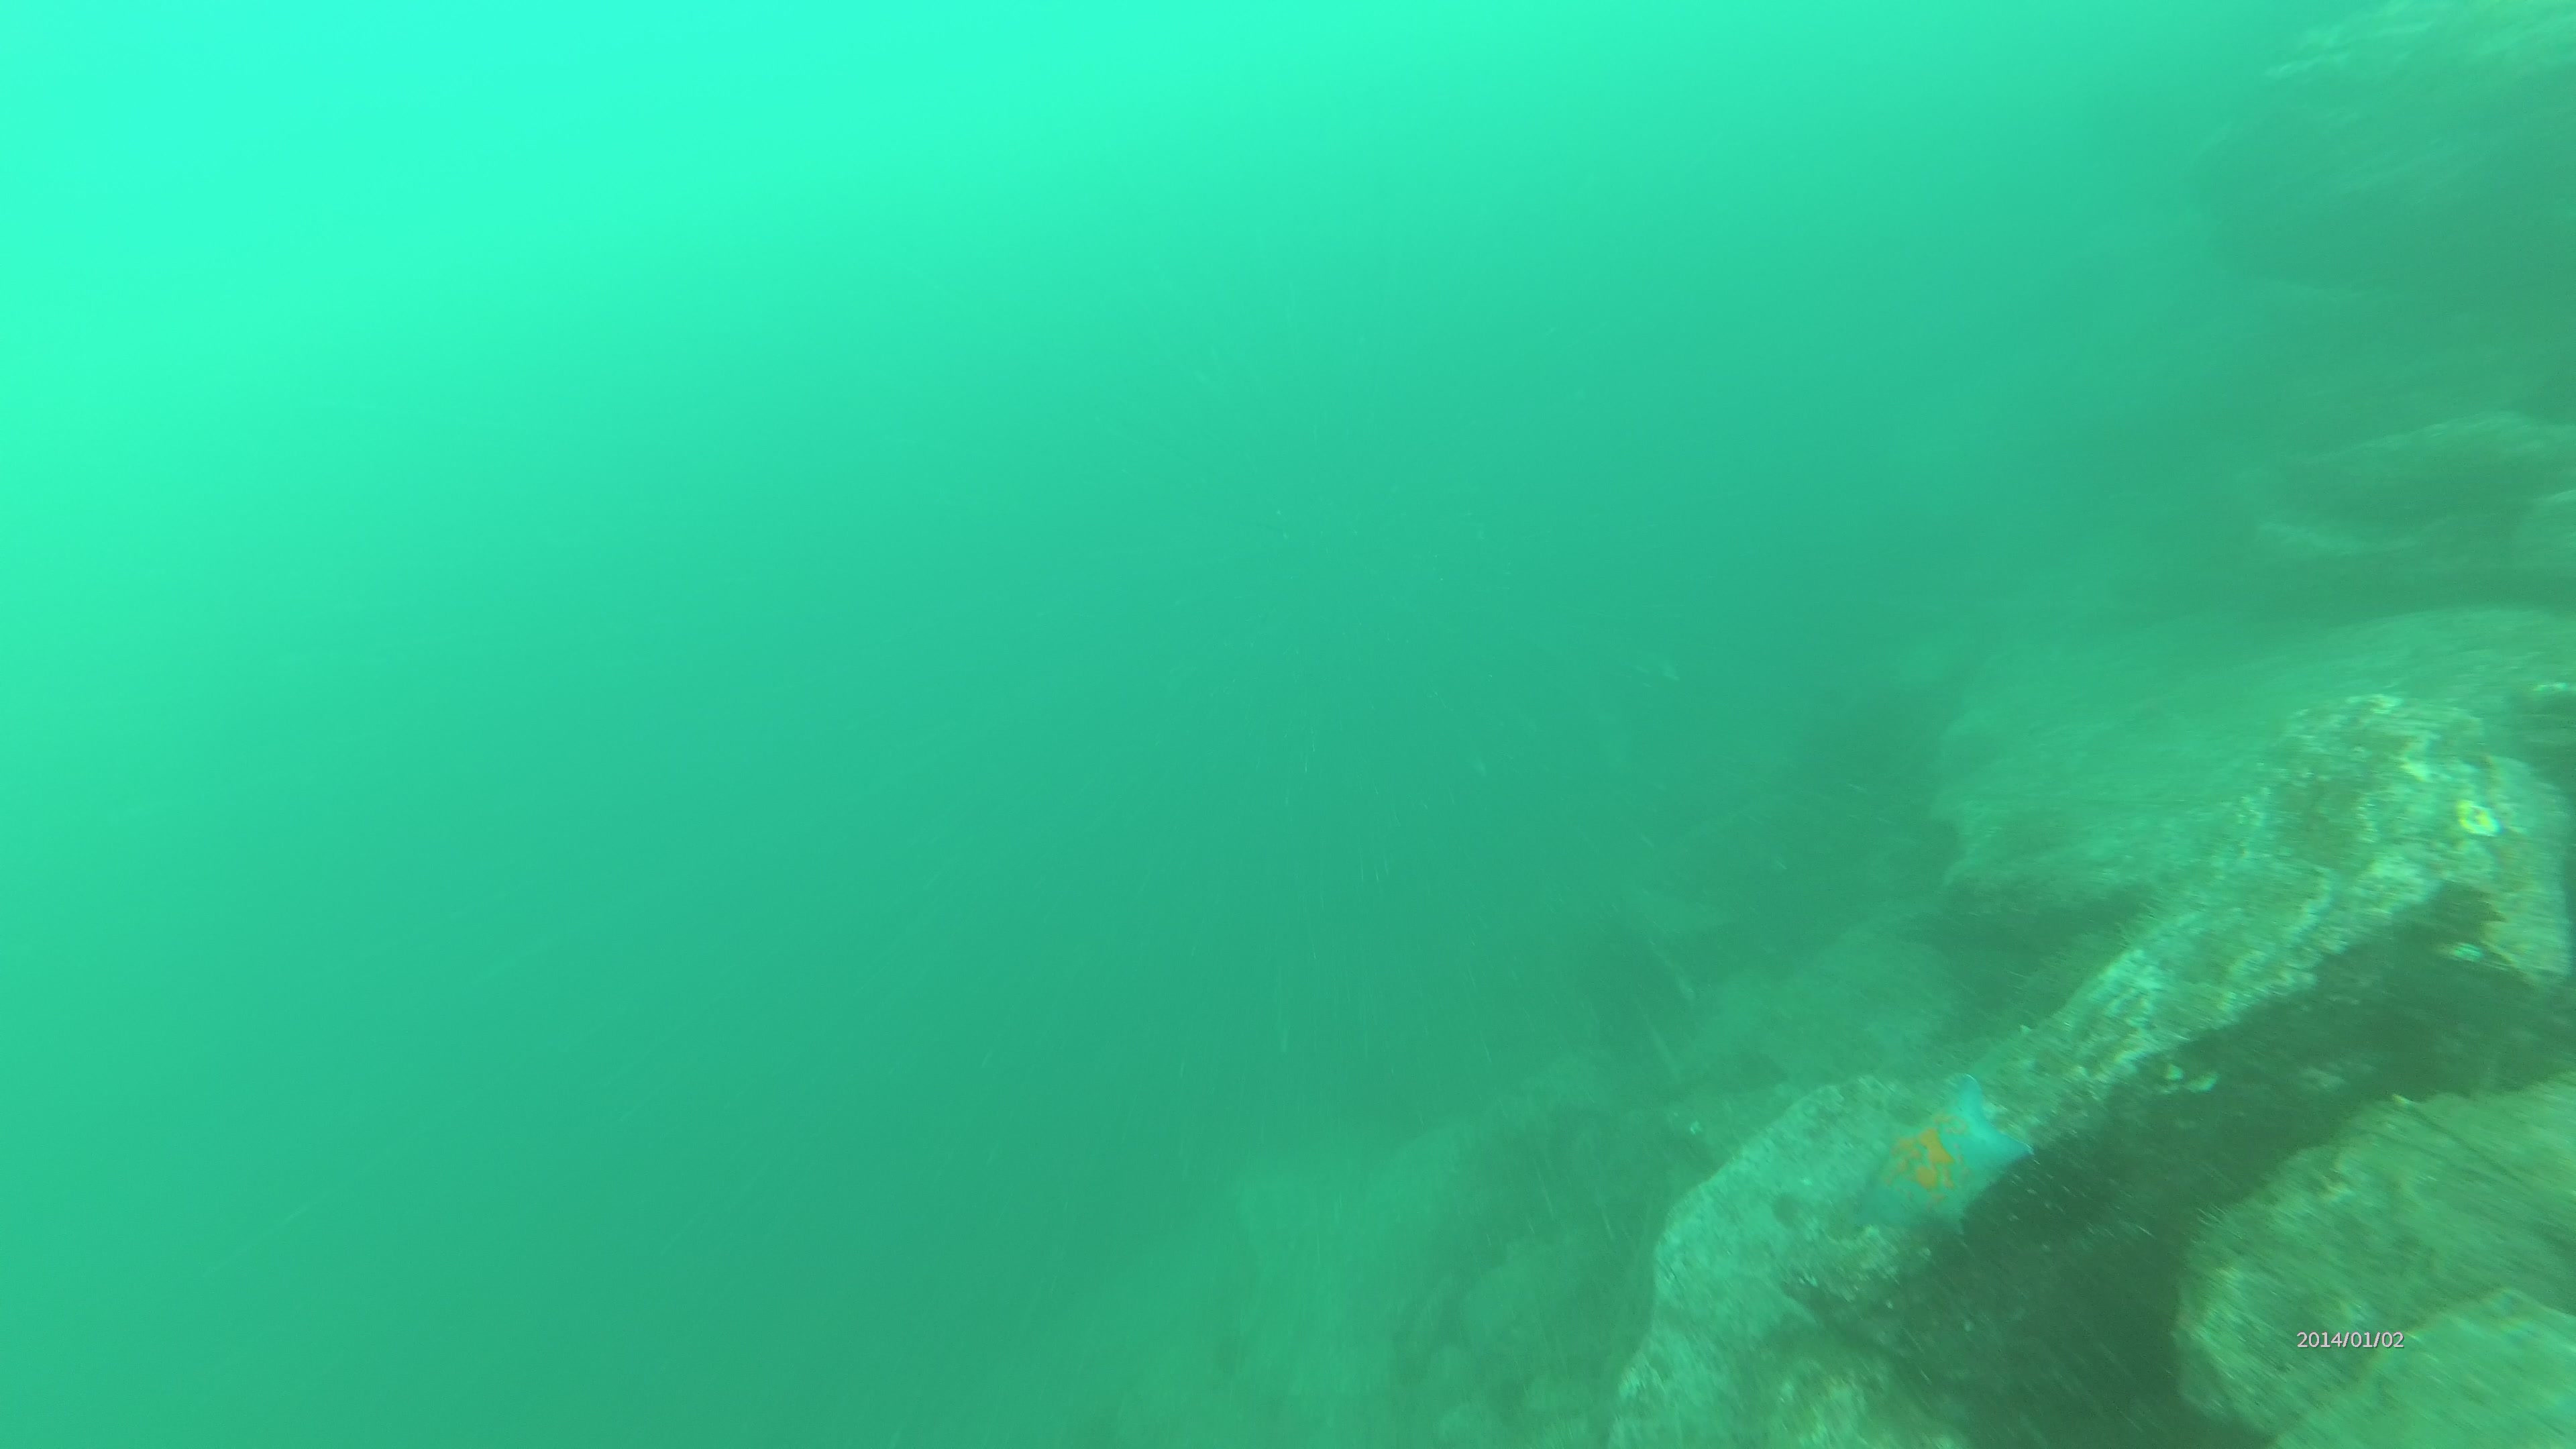starfish: (1877, 1072, 2035, 1238)
